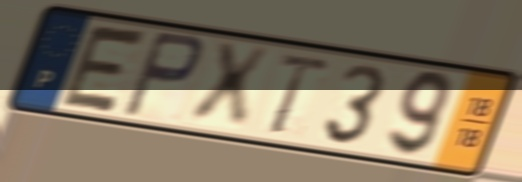3: (320, 63, 389, 147)
9: (383, 69, 454, 160)
E: (56, 21, 153, 117)
P: (118, 28, 208, 122)
T: (266, 50, 336, 137)
X: (185, 40, 275, 132)
